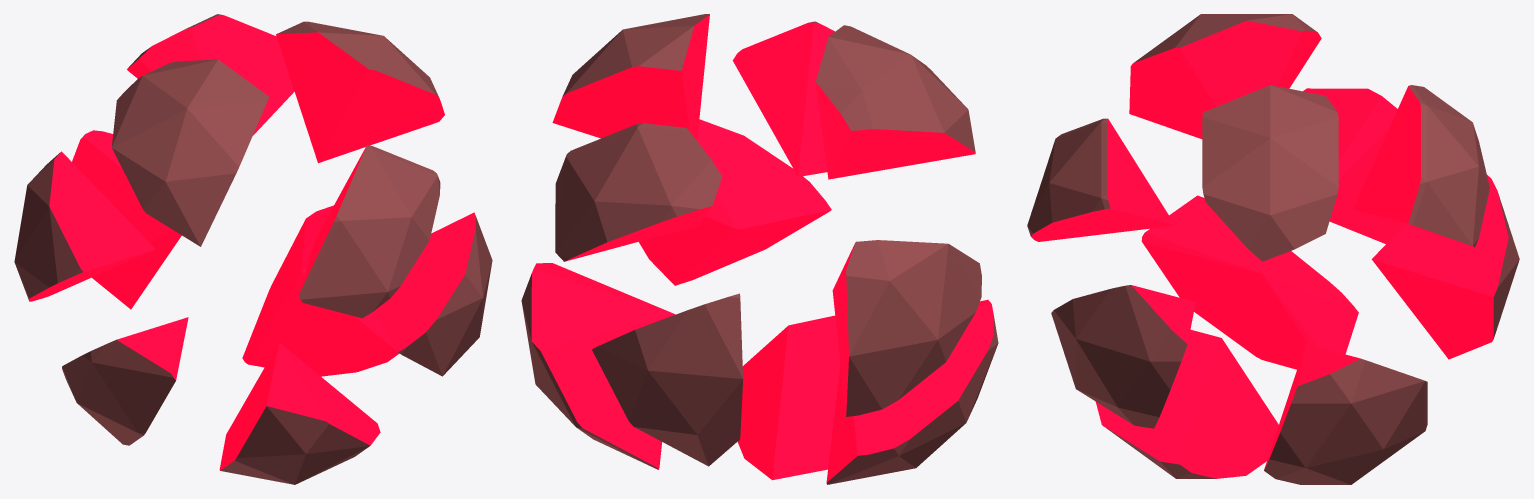
Rendered from Crystal3.fbx.
3 views of the same model, side by side, from view 1: azimuth 30°, elevation 25°; view 2: azimuth 150°, elevation 25°; view 3: azimuth 270°, elevation 25° (orthographic). The views are drawn at different scales.
Visible parts, largest first — view 1: Crystal3_cell.004, Crystal3_cell.008, Crystal3_cell.009, Crystal3_cell.002, Crystal3_cell.003, Crystal3_cell.000, Crystal3_cell.006, Crystal3_cell.001, Crystal3_cell.007, Crystal3_cell.005; view 2: Crystal3_cell.003, Crystal3_cell.005, Crystal3_cell.004, Crystal3_cell.007, Crystal3_cell.006, Crystal3_cell.000, Crystal3_cell.009, Crystal3_cell.002, Crystal3_cell.001, Crystal3_cell.008; view 3: Crystal3_cell.009, Crystal3_cell.001, Crystal3_cell.006, Crystal3_cell.004, Crystal3_cell.002, Crystal3_cell.000, Crystal3_cell.007, Crystal3_cell.005, Crystal3_cell.008, Crystal3_cell.003.
Boxes of the visible parts, x1,y1,x2,y2 form: Crystal3_cell.004: (111,59,268,246); Crystal3_cell.008: (298,145,440,318); Crystal3_cell.009: (276,21,444,163); Crystal3_cell.002: (219,342,380,484); Crystal3_cell.003: (14,151,155,301); Crystal3_cell.000: (374,212,492,376); Crystal3_cell.006: (242,205,399,376); Crystal3_cell.001: (62,317,188,445); Crystal3_cell.007: (127,14,294,135); Crystal3_cell.005: (72,130,181,309); Crystal3_cell.003: (832,240,981,416); Crystal3_cell.005: (592,293,743,466); Crystal3_cell.004: (815,25,975,179); Crystal3_cell.007: (555,123,721,261); Crystal3_cell.006: (521,263,675,469); Crystal3_cell.000: (639,119,831,285); Crystal3_cell.009: (552,14,709,140); Crystal3_cell.002: (737,315,840,480); Crystal3_cell.001: (826,299,998,484); Crystal3_cell.008: (732,21,834,176); Crystal3_cell.009: (1202,85,1338,261); Crystal3_cell.001: (1141,195,1358,369); Crystal3_cell.006: (1264,344,1427,484); Crystal3_cell.004: (1129,14,1321,138); Crystal3_cell.002: (1096,329,1278,478); Crystal3_cell.000: (1051,285,1195,428); Crystal3_cell.007: (1353,85,1489,246); Crystal3_cell.005: (1371,175,1519,359); Crystal3_cell.008: (1027,118,1174,241); Crystal3_cell.003: (1303,88,1404,243).
Bounding box in the file's own units: 5412 × 5627 × 5879.
